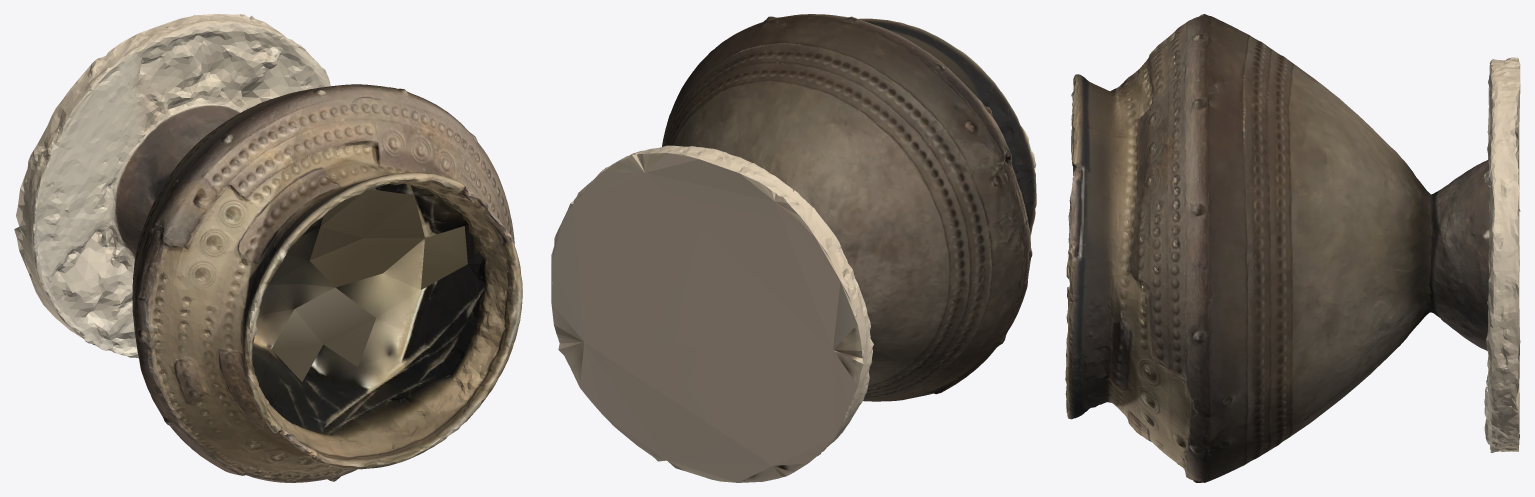
Rendered from pot.glb.
3 renders of one model, left to right at view 1: azimuth 30°, elevation 25°; view 2: azimuth 150°, elevation 25°; view 3: azimuth 270°, elevation 25°, orthographic. The views are drawn at different scales.
Parts seen in each view (by area): view 1: Mesh_0_Part_0; view 2: Mesh_0_Part_0; view 3: Mesh_0_Part_0.
Part boxes in pixels (left/top/right/bottom): Mesh_0_Part_0: left=14, top=14, right=522, bottom=482; Mesh_0_Part_0: left=551, top=14, right=1036, bottom=482; Mesh_0_Part_0: left=1065, top=14, right=1520, bottom=482.
Bounding box in the file's own units: 18.73 × 18.76 × 18.17.
Materials: 1 (1 with a texture image).
